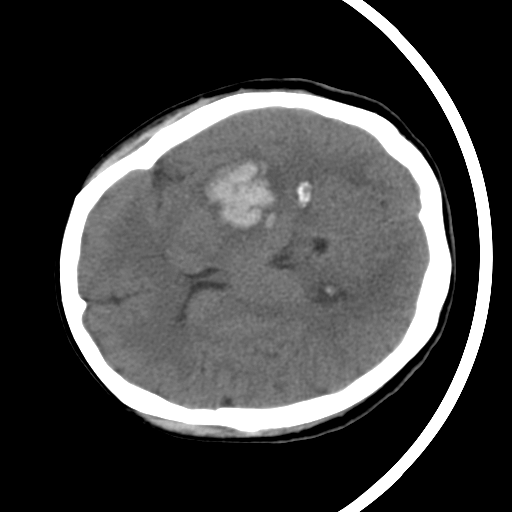a: (184, 140, 293, 242)
